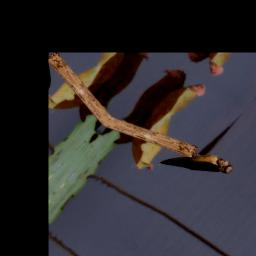Swallow: (157, 131, 236, 198)
